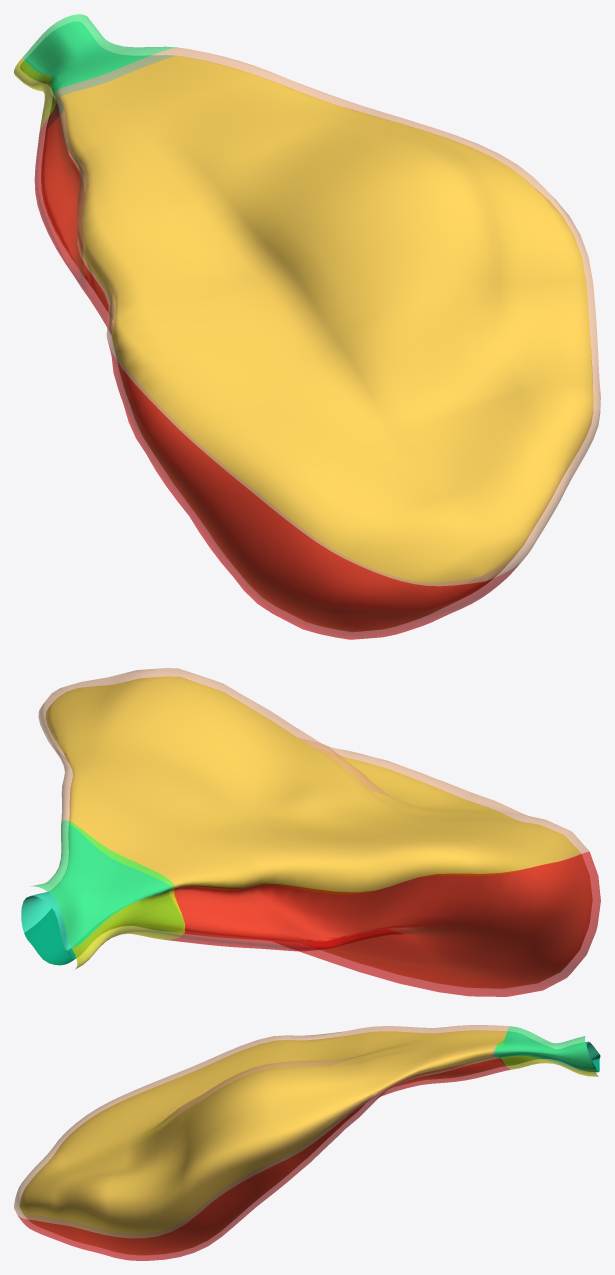
Rendered from bladder.glb.
3 renders of one model, top to bottom at view 1: azimuth 30°, elevation 25°; view 2: azimuth 150°, elevation 25°; view 3: azimuth 270°, elevation 25°, orthographic. The views are drawn at different scales.
Parts seen in each view (by area): view 1: Ventral serosa of body (×2), Ventral lumen of body, Dorsal serosa of body (×2), Dorsal lumen of body, Ventral serosa of neck (×2), Ventral lumen of neck, Dorsal serosa of neck (×2); view 2: Ventral serosa of body (×2), Dorsal serosa of body (×2), Ventral lumen of body, Dorsal lumen of body, Ventral serosa of neck (×2), Ventral lumen of neck, Dorsal serosa of neck (×2), Dorsal lumen of neck; view 3: Ventral serosa of body (×2), Ventral lumen of body, Dorsal serosa of body (×2), Dorsal lumen of body, Ventral serosa of neck (×2), Ventral lumen of neck, Dorsal serosa of neck (×2), Dorsal lumen of neck.
Boxes of the visible parts, <box> form: Ventral serosa of body (×2): <box>54,47,600,585</box>; Ventral lumen of body: <box>60,56,593,582</box>; Dorsal serosa of body (×2): <box>35,100,519,639</box>; Dorsal lumen of body: <box>41,111,512,631</box>; Ventral serosa of neck (×2): <box>22,14,177,95</box>; Ventral lumen of neck: <box>26,21,173,97</box>; Dorsal serosa of neck (×2): <box>14,58,56,132</box>; Ventral serosa of body (×2): <box>38,668,588,891</box>; Dorsal serosa of body (×2): <box>169,852,600,996</box>; Ventral lumen of body: <box>46,676,580,894</box>; Dorsal lumen of body: <box>169,854,592,988</box>; Ventral serosa of neck (×2): <box>32,820,174,947</box>; Ventral lumen of neck: <box>21,826,170,950</box>; Dorsal serosa of neck (×2): <box>72,889,184,968</box>; Dorsal lumen of neck: <box>24,889,183,965</box>; Ventral serosa of body (×2): <box>14,1025,509,1237</box>; Ventral lumen of body: <box>20,1030,507,1233</box>; Dorsal serosa of body (×2): <box>17,1058,510,1260</box>; Dorsal lumen of body: <box>22,1056,506,1254</box>; Ventral serosa of neck (×2): <box>495,1026,594,1070</box>; Ventral lumen of neck: <box>492,1031,599,1066</box>; Dorsal serosa of neck (×2): <box>500,1056,598,1076</box>; Dorsal lumen of neck: <box>498,1054,600,1072</box>.
Bounding box in the file's own units: 8337 × 6118 × 14093.
